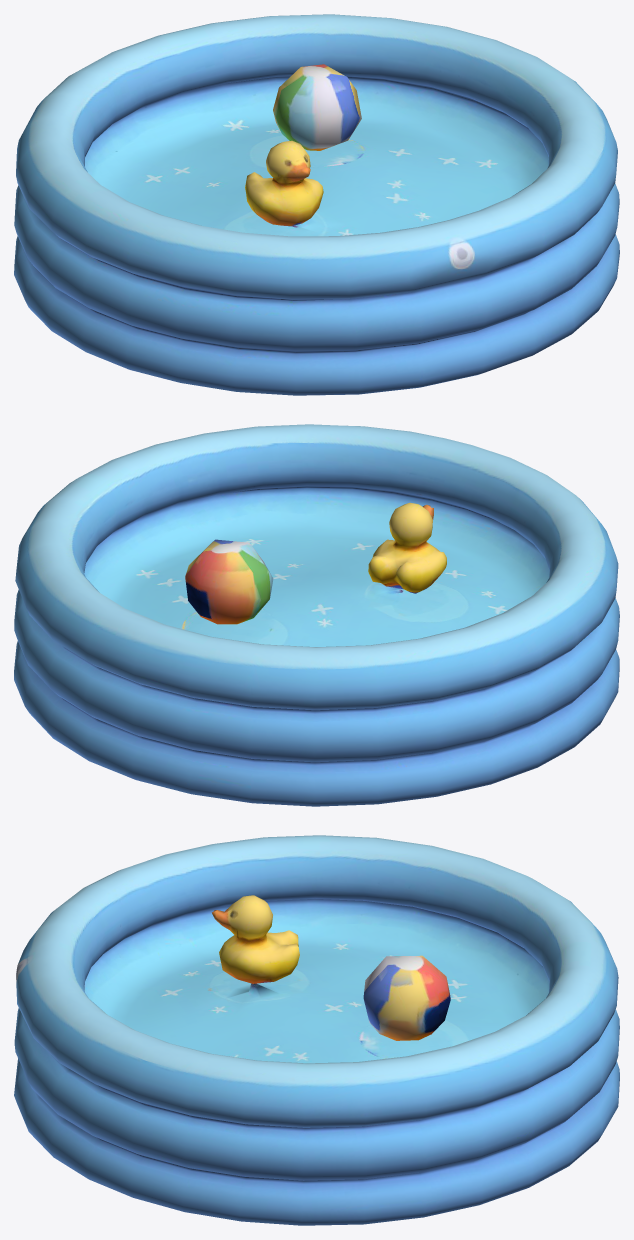
Rendered from basebasseng.fbx.
3 renders of one model, top to bottom at view 1: azimuth 30°, elevation 25°; view 2: azimuth 150°, elevation 25°; view 3: azimuth 270°, elevation 25°, orthographic.
Visible parts, largest first — view 1: basebasseng; view 2: basebasseng; view 3: basebasseng.
Part boxes in pixels (<box>): basebasseng: <box>14,14,619,395</box>; basebasseng: <box>14,424,619,806</box>; basebasseng: <box>14,835,619,1225</box>.
Bounding box in the file's own units: 3.89 × 1.22 × 3.81.
Materials: 1 (1 with a texture image).
